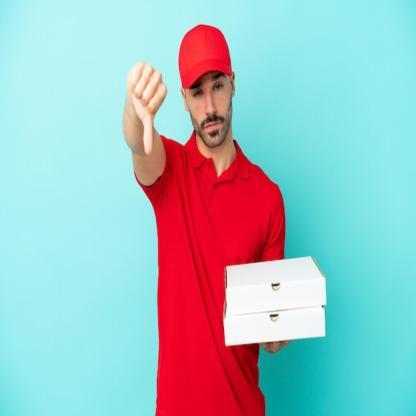thumb_down: (124, 59, 171, 158)
